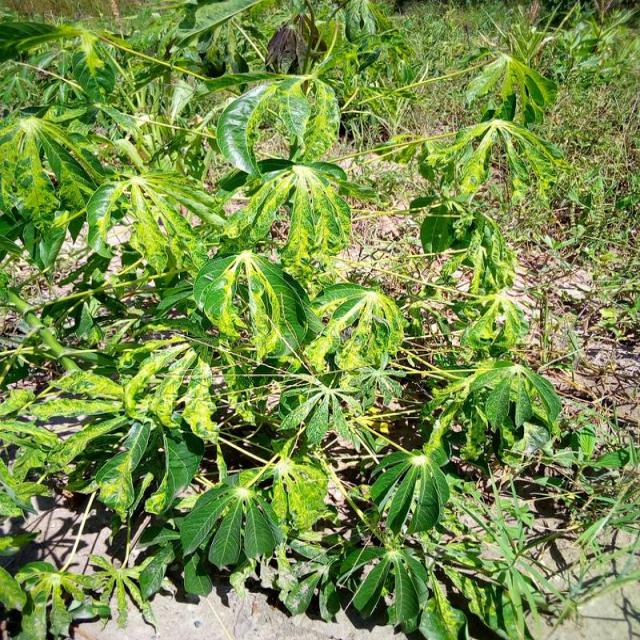cassava leaf: (192, 248, 322, 362)
